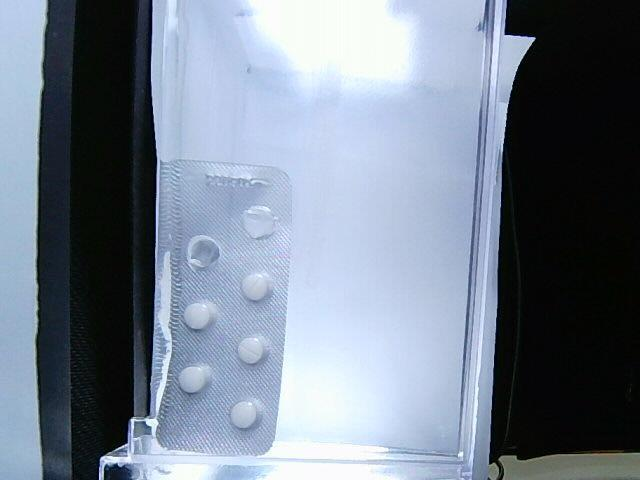Light Front: (152, 160, 295, 458)
No Pill Front: (243, 205, 279, 238), (188, 235, 220, 268)
Pill Front: (184, 303, 217, 330), (238, 336, 269, 364), (241, 273, 271, 301), (179, 366, 206, 393), (230, 401, 257, 428)
